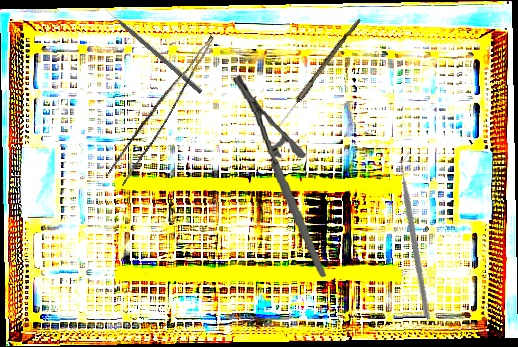Chopper: (336, 151, 501, 321)
Hook Surgical: (103, 6, 204, 94)
Needle Holder: (230, 67, 327, 284)
Surgical Spoon: (273, 16, 362, 133)
Tissue Forceps: (106, 25, 215, 189)
